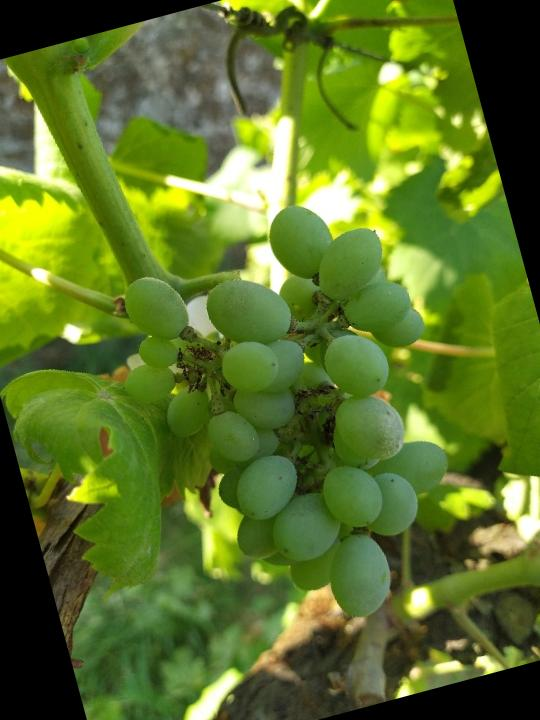grape: (84, 172, 500, 667)
